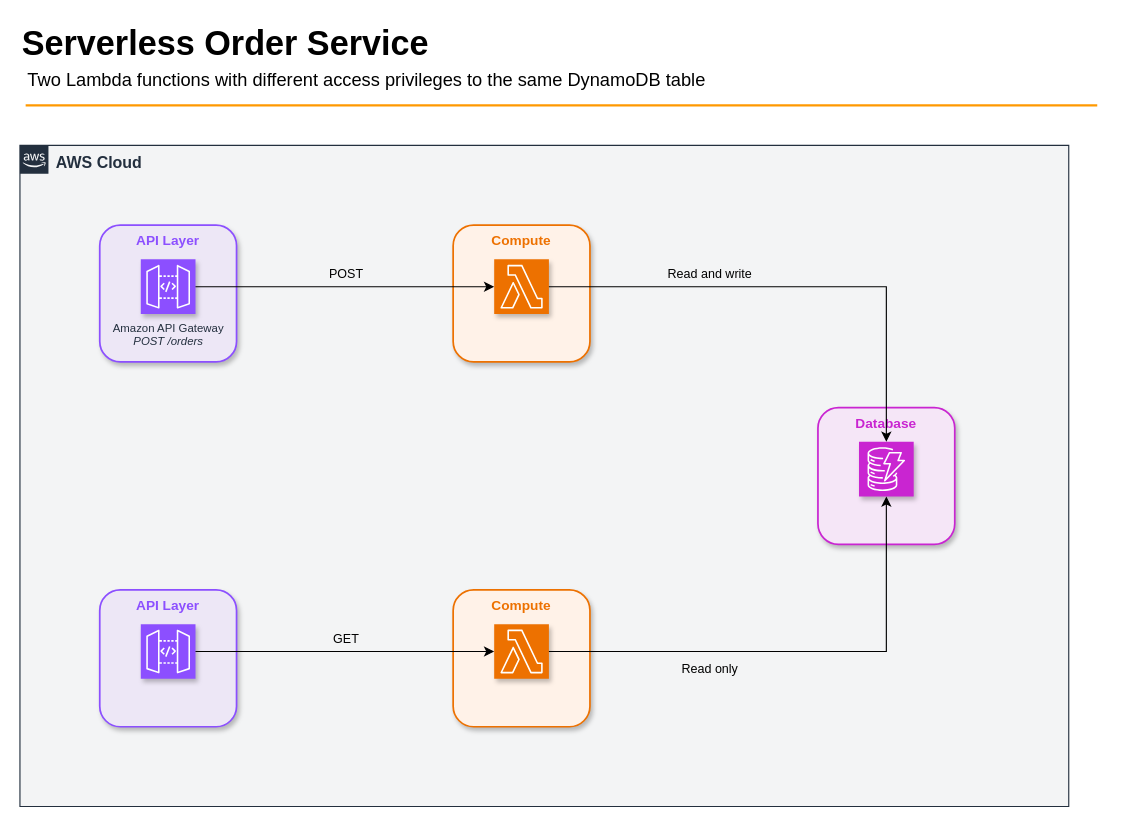
The diagram is 1123 pixels wide and 827 high, and some of its shapes have lost their labels. The shapes that lost their labels are listed below. From the top down, each one's centre as x and y in pixels, then its label:
At pixel 522 288: "AWS Lambda new order handler".
At pixel 887 470: "Amazon DynamoDB Orders table".
At pixel 168 652: "Amazon API Gateway GET /orders/{id}/status".
At pixel 522 652: "AWS Lambda order status query".
